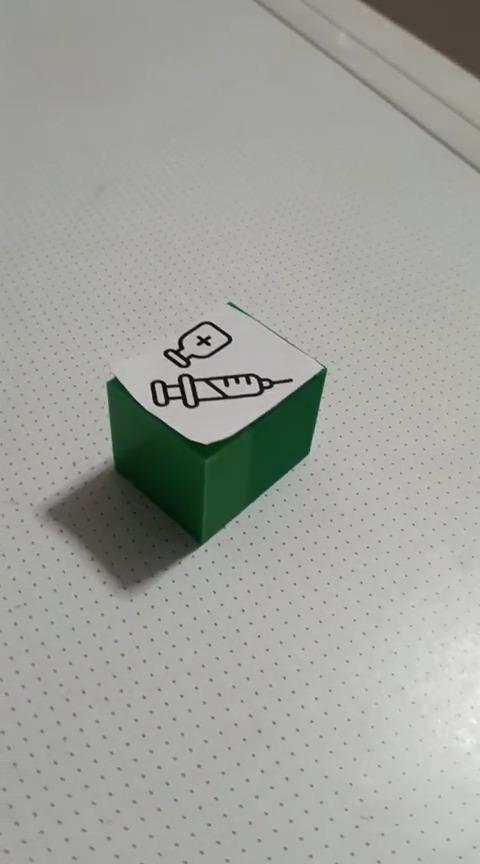antiseptic cream: (104, 299, 327, 545)
